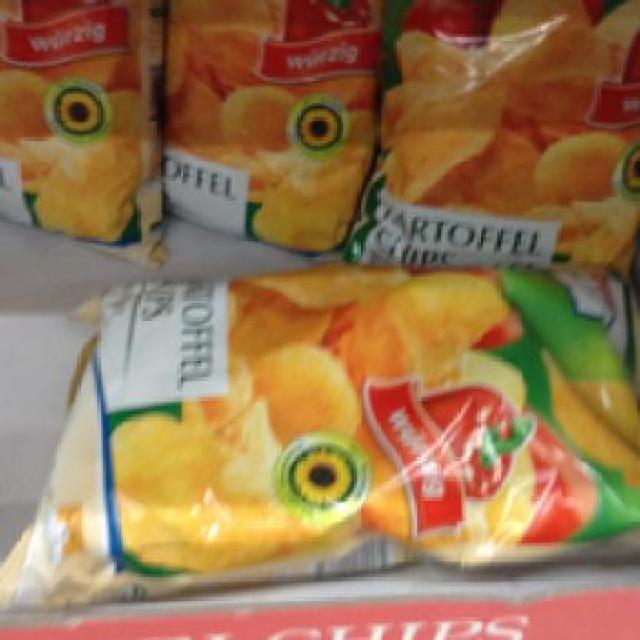Chips: (26, 266, 634, 606), (348, 0, 632, 269), (163, 0, 364, 255), (0, 0, 157, 257)
